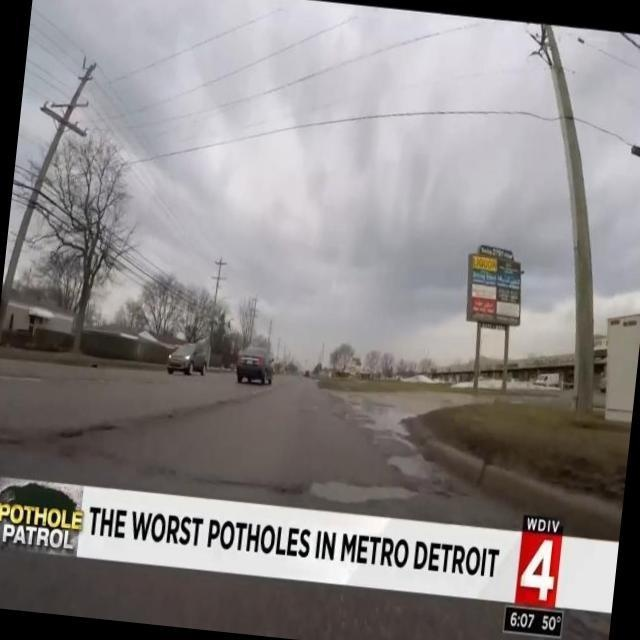pothole: (362, 407, 439, 494), (312, 474, 409, 509), (39, 415, 131, 448)
